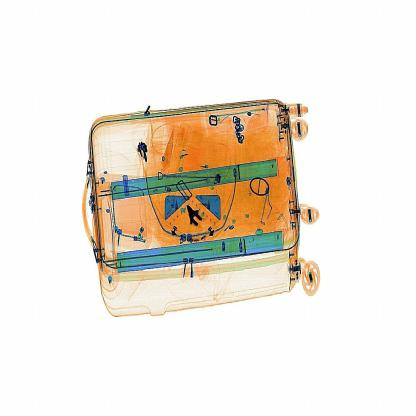gun: (177, 193, 217, 244)
